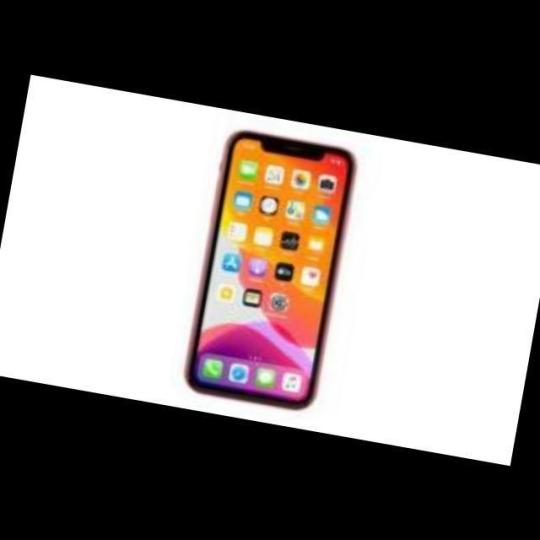phone: (179, 122, 358, 412)
